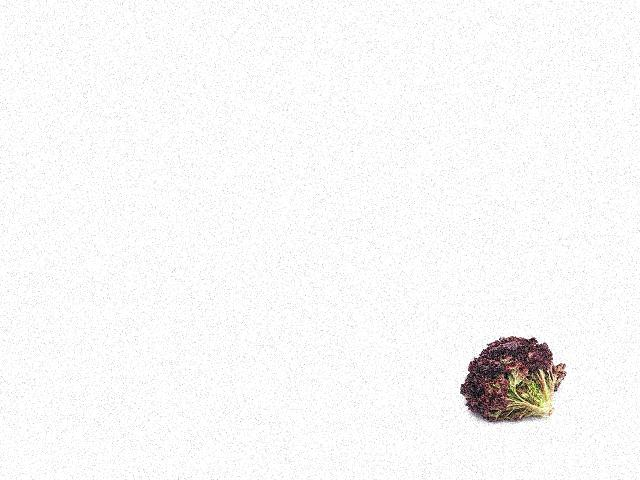lettuce: (450, 328, 622, 422)
